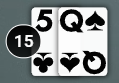5: (31, 7, 58, 34)
q: (58, 8, 85, 35)
